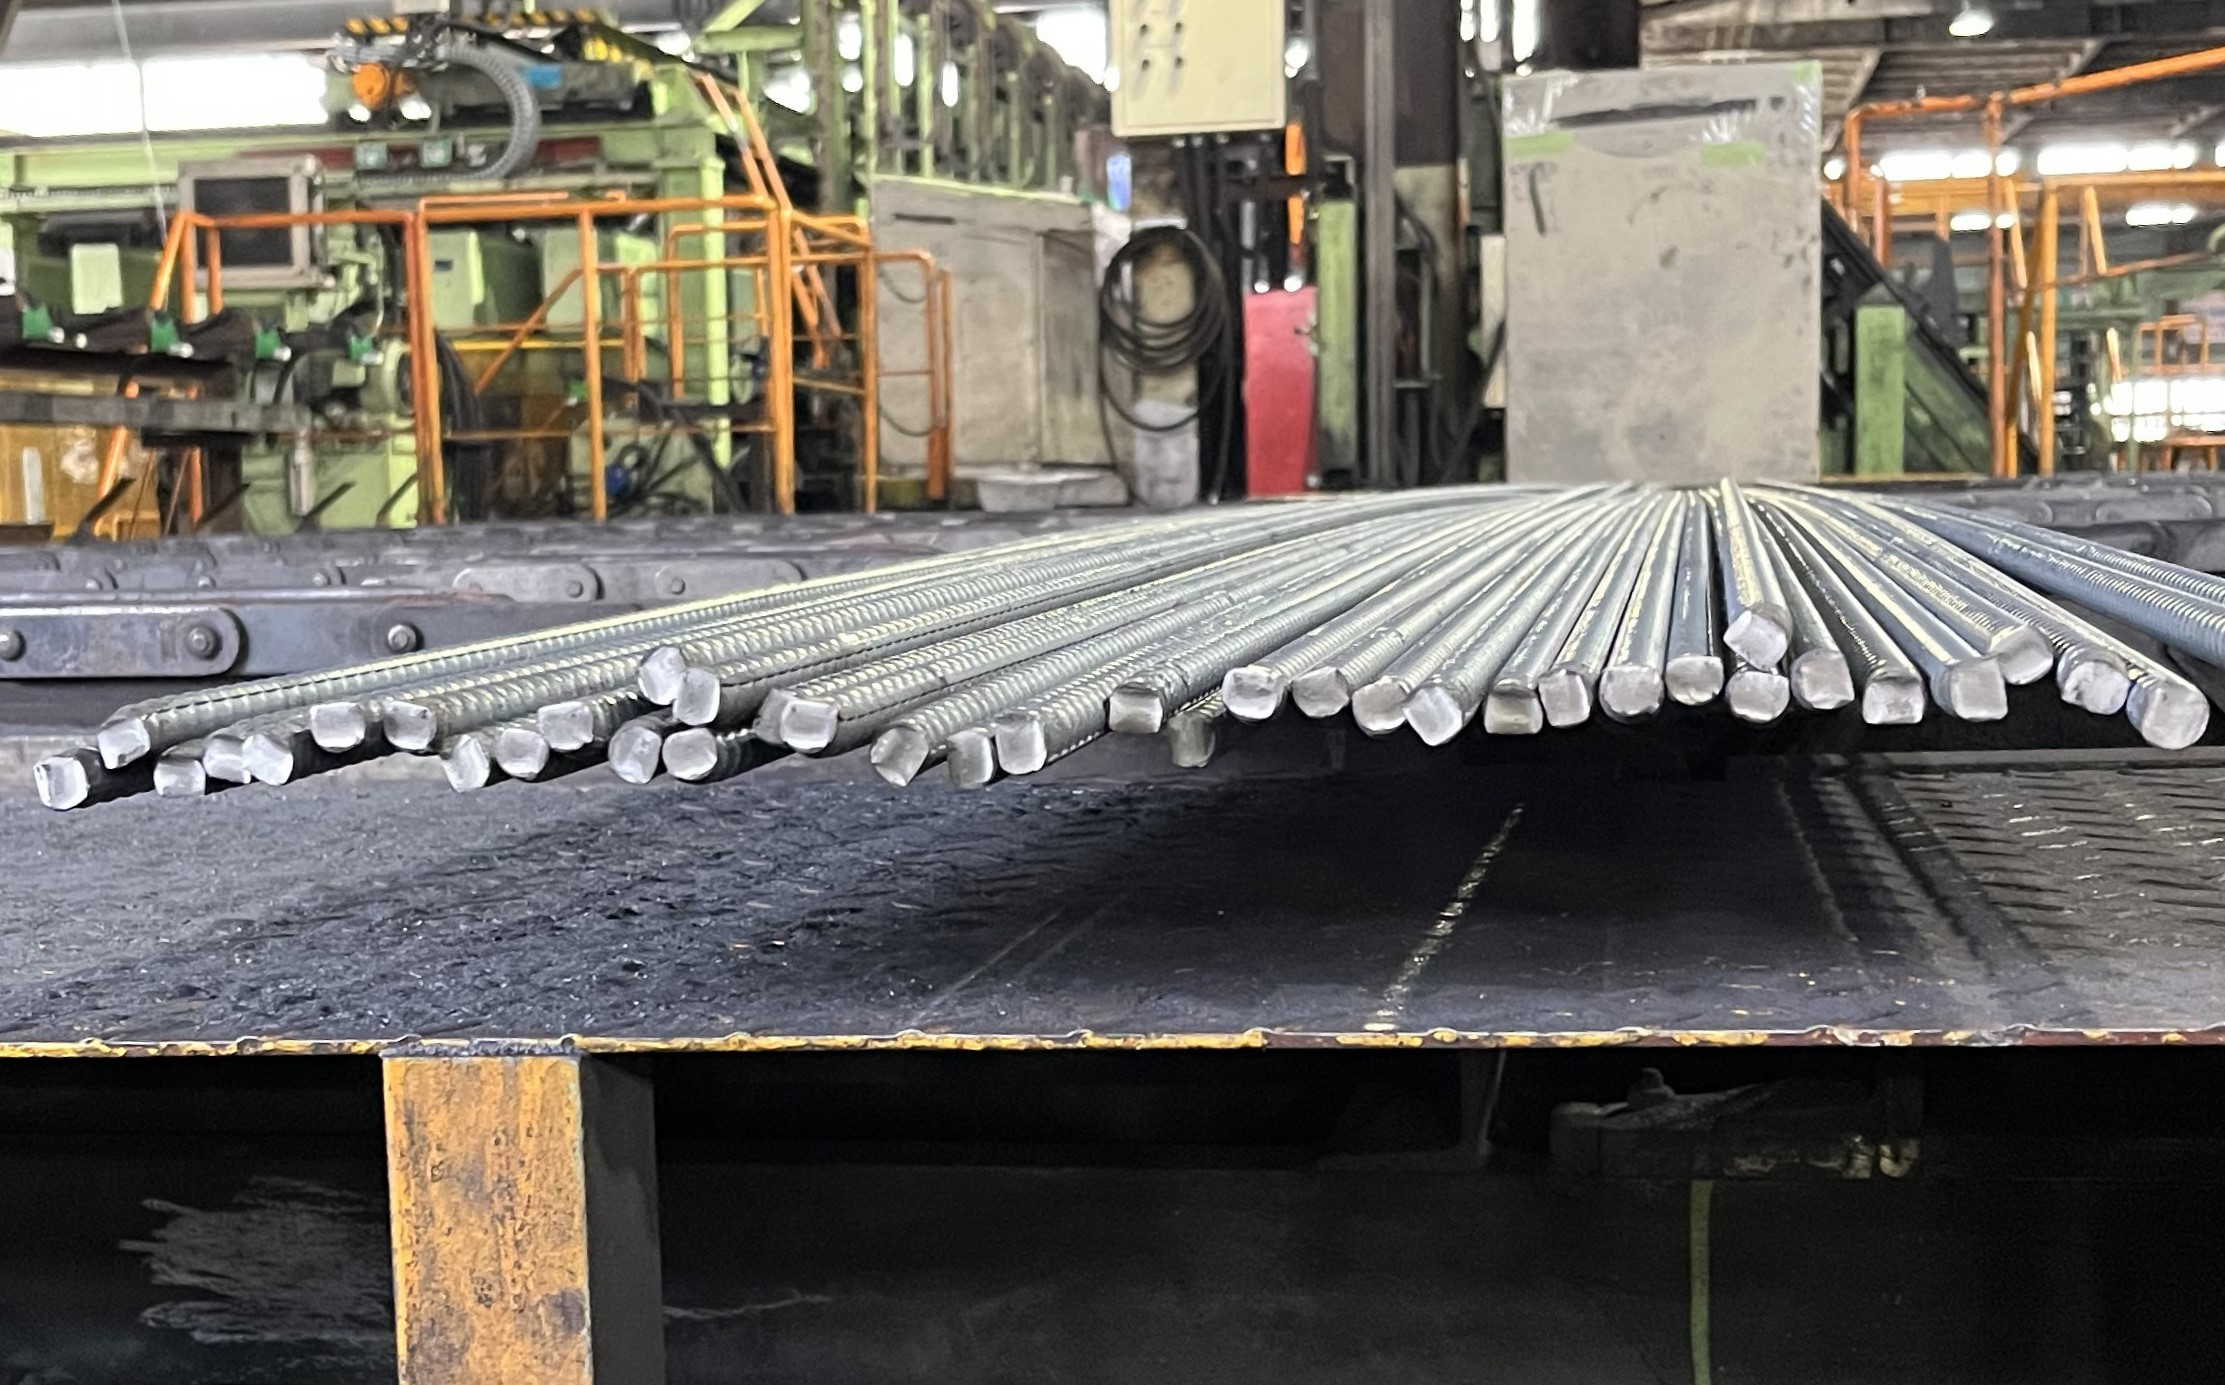rod: (2132, 675, 2212, 752), (2058, 657, 2134, 720), (866, 723, 933, 790), (1402, 681, 1469, 747), (1992, 621, 2058, 688), (1790, 649, 1860, 712), (1943, 659, 2013, 721), (1721, 610, 1791, 670), (1597, 662, 1665, 721), (635, 638, 691, 710), (1723, 669, 1793, 723), (778, 697, 842, 756), (1349, 673, 1408, 737), (995, 710, 1051, 777), (1219, 665, 1286, 721), (604, 721, 664, 783), (1534, 665, 1593, 728), (1863, 672, 1928, 726), (94, 713, 153, 772), (380, 697, 439, 756), (1483, 680, 1546, 736), (239, 729, 297, 788), (308, 699, 368, 755), (659, 728, 719, 783), (670, 665, 726, 726), (1104, 680, 1164, 736), (1662, 653, 1726, 705), (1164, 712, 1220, 771), (944, 731, 998, 791), (439, 732, 491, 795), (494, 723, 550, 780), (538, 700, 597, 755), (1289, 665, 1349, 718), (38, 753, 89, 814), (203, 731, 254, 787), (150, 753, 207, 801), (750, 685, 791, 745)
